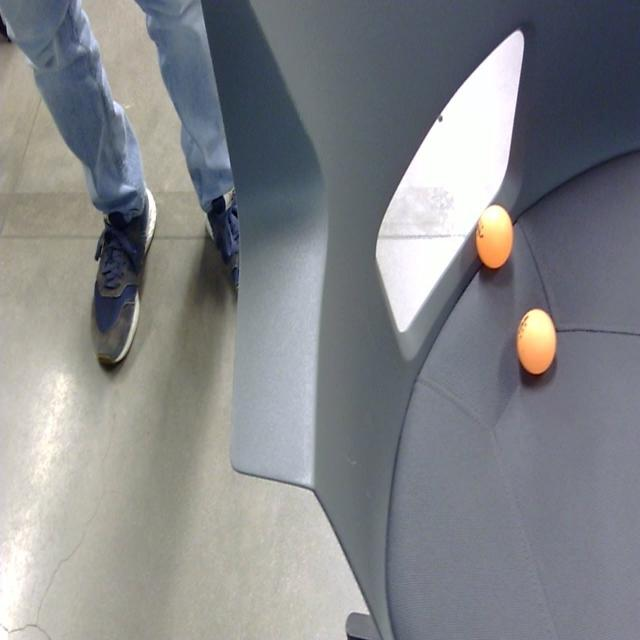ball: (515, 306, 558, 377), (474, 202, 514, 274)
